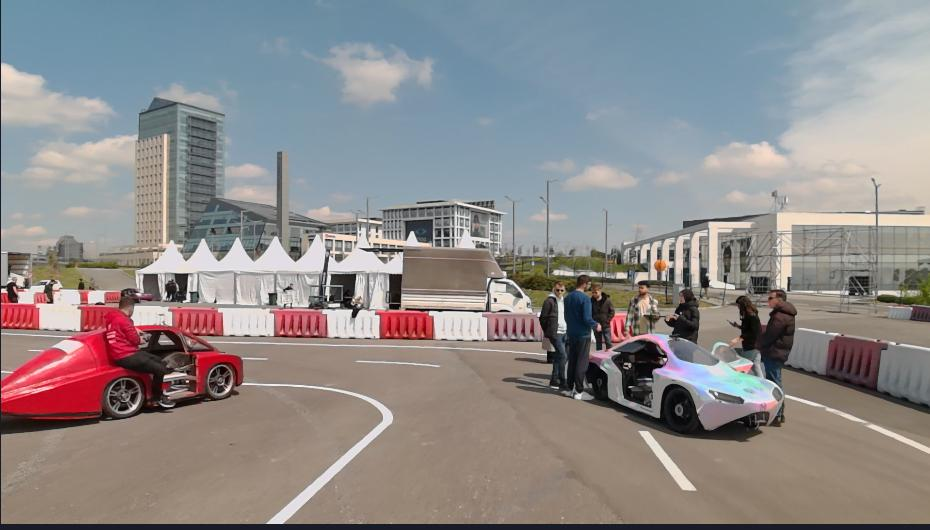nesne: (0, 331, 929, 523), (213, 337, 725, 529), (594, 391, 929, 523), (0, 296, 242, 423), (242, 381, 396, 526), (587, 331, 784, 436), (131, 307, 542, 340), (783, 326, 925, 411), (786, 395, 930, 454), (399, 244, 530, 308), (106, 297, 178, 411), (762, 284, 798, 426), (566, 271, 603, 399), (212, 340, 541, 352), (873, 339, 928, 410), (638, 430, 696, 488), (539, 278, 567, 395), (723, 294, 761, 376), (823, 334, 879, 389), (786, 327, 832, 377), (308, 247, 345, 307), (623, 280, 664, 333), (589, 281, 616, 352), (662, 285, 697, 338), (484, 310, 542, 341), (378, 311, 432, 340), (326, 311, 378, 339), (272, 309, 325, 336), (432, 312, 485, 338), (221, 309, 274, 334), (172, 306, 220, 333), (0, 250, 33, 289), (349, 357, 442, 370), (36, 304, 79, 330), (0, 302, 37, 329), (79, 304, 115, 330), (129, 306, 172, 326), (608, 312, 633, 342), (278, 282, 296, 308), (5, 275, 20, 302), (163, 277, 181, 299), (121, 287, 151, 300), (55, 288, 79, 302), (889, 303, 908, 320), (908, 306, 928, 320), (44, 277, 55, 302), (87, 289, 103, 303), (103, 288, 120, 301), (187, 286, 198, 303), (244, 355, 270, 362), (266, 290, 277, 305), (34, 291, 47, 302), (78, 289, 88, 303), (19, 292, 34, 300), (77, 276, 85, 288), (0, 292, 7, 301)
